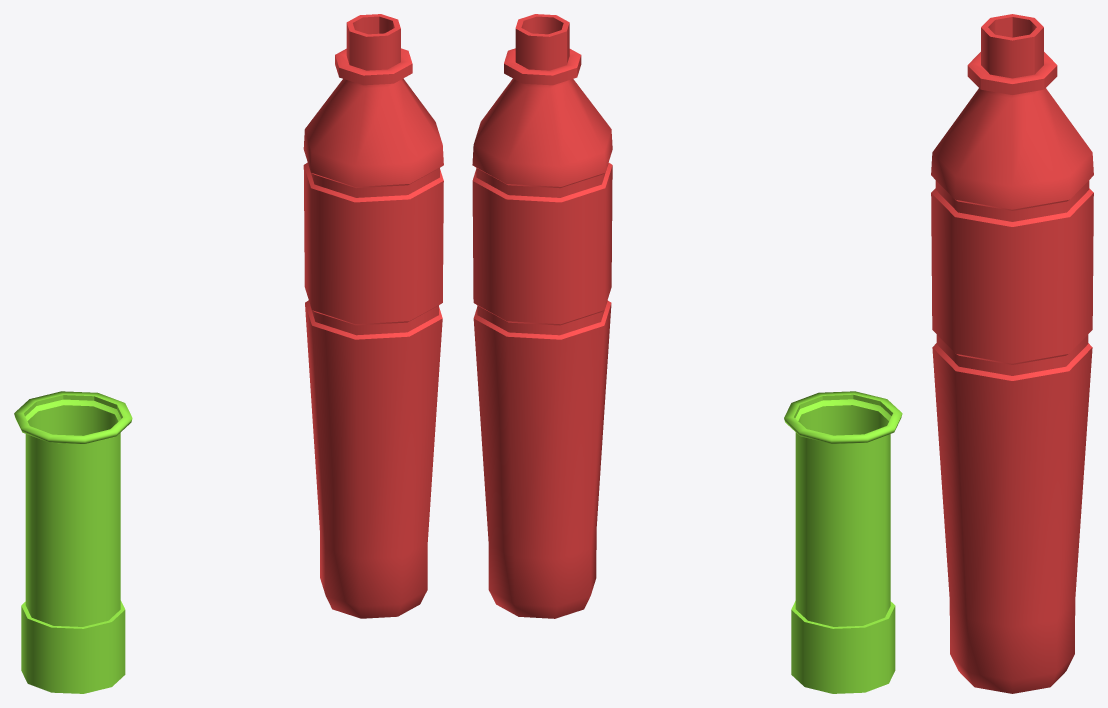
Rendered from Detergente.FBX.
The picture shows the model from 3 angles, left to right: view 1: azimuth 30°, elevation 25°; view 2: azimuth 150°, elevation 25°; view 3: azimuth 270°, elevation 25°; orthographic projection. The views are drawn at different scales.
Parts seen in each view (by area): view 1: detergente, pega_bolhas; view 2: detergente, pega_bolhas; view 3: detergente.
Boxes of the visible parts, <box> form: detergente: <box>303,14,443,618</box>; pega_bolhas: <box>14,391,132,693</box>; detergente: <box>472,14,612,618</box>; pega_bolhas: <box>784,391,902,693</box>; detergente: <box>931,14,1093,693</box>.
Size of the model in its own units: 1.38 by 0.4184 by 1.82.
